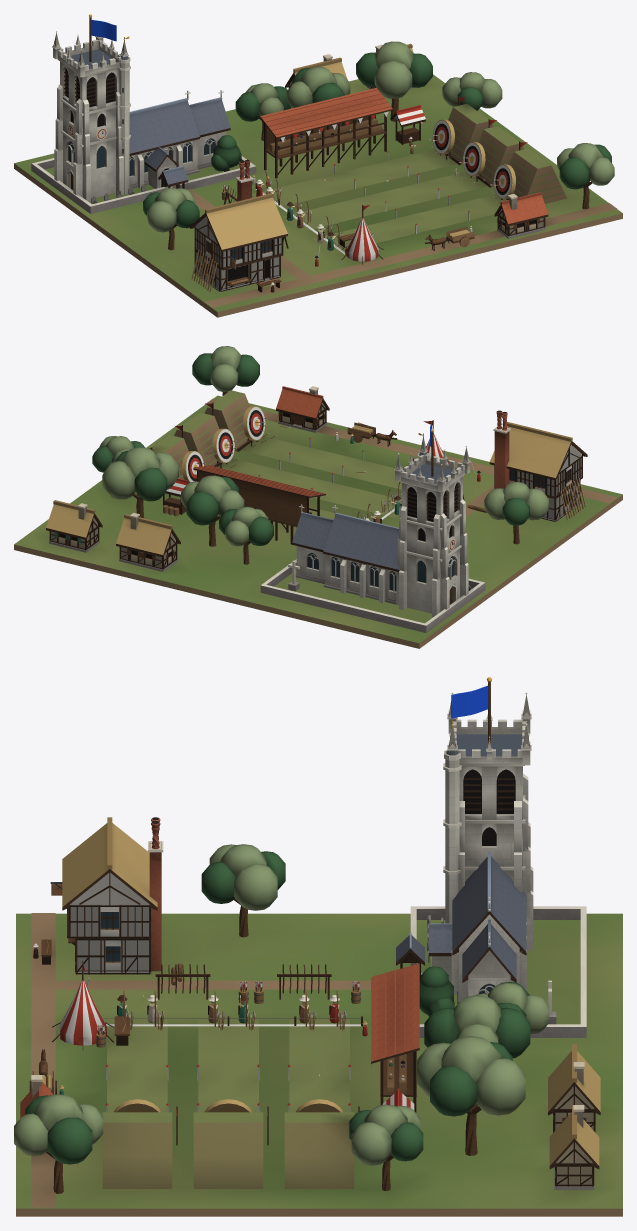
Rendered from lm_okcutalim.glb.
3 renders of one model, top to bottom at view 1: azimuth 30°, elevation 25°; view 2: azimuth 150°, elevation 25°; view 3: azimuth 270°, elevation 25°, orthographic. The views are drawn at different scales.
Visible parts, largest first — view 1: lm_okcutalim; view 2: lm_okcutalim; view 3: lm_okcutalim.
Part boxes in pixels (box(x1,y1,x2,y2)): lm_okcutalim: box(14, 14, 622, 317); lm_okcutalim: box(14, 346, 622, 648); lm_okcutalim: box(14, 677, 622, 1216).
Size of the model in its own units: 2.33 by 0.9729 by 2.01.
Materials: 1 (1 with a texture image).
